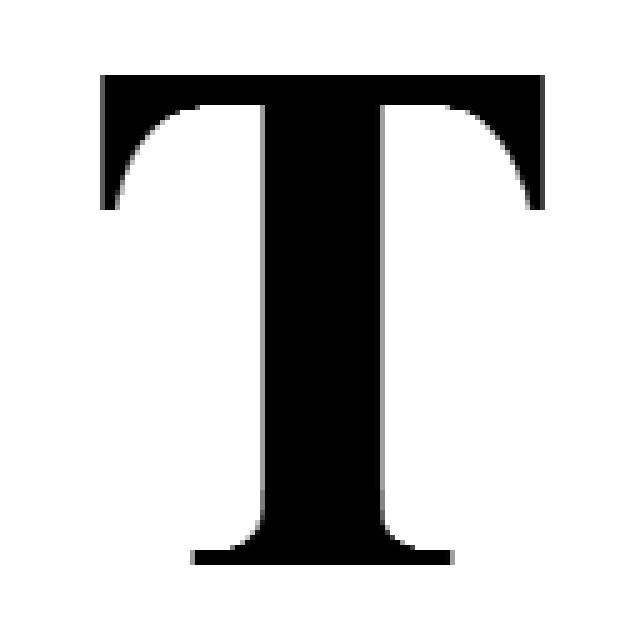T: (90, 65, 550, 570)
